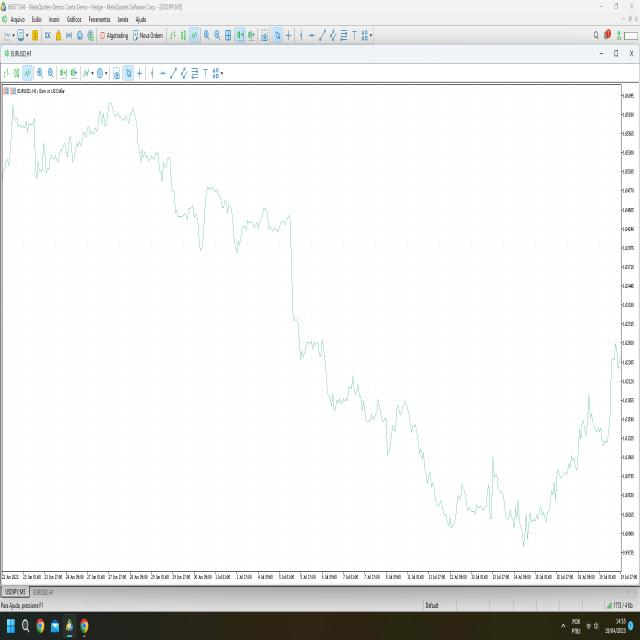bandeira_baixa: (283, 192, 327, 369)
